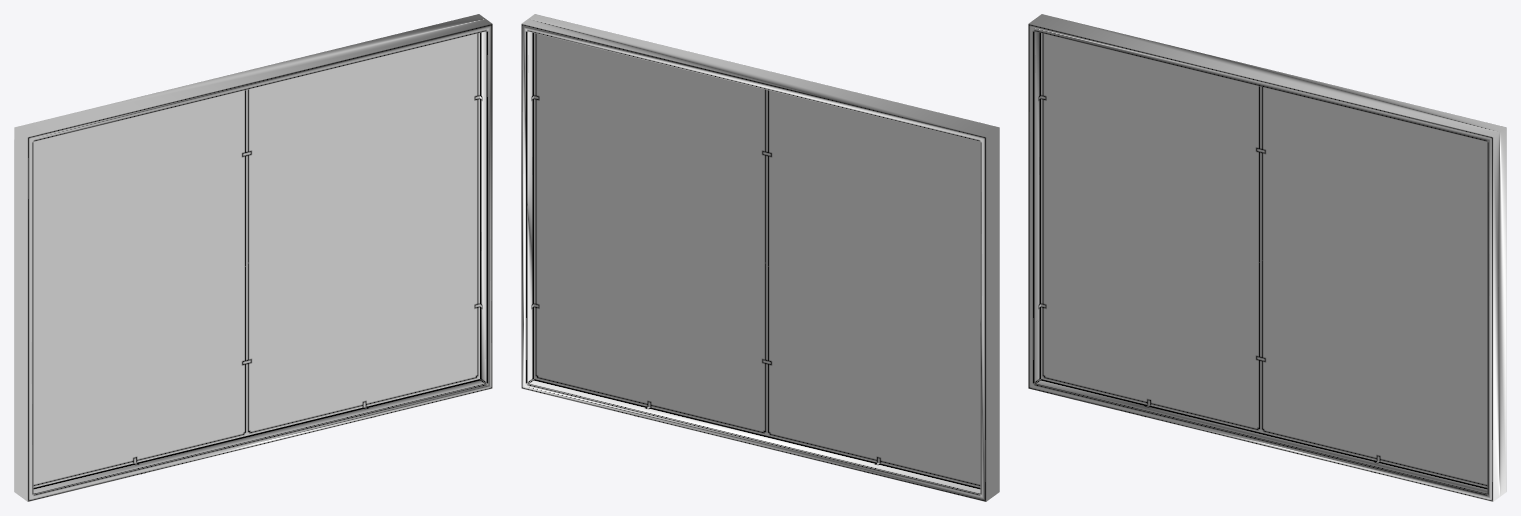
The model's file is Mesh_StoreWindow_bb_01.fbx.
3 views of the same model, side by side, from view 1: azimuth 30°, elevation 25°; view 2: azimuth 150°, elevation 25°; view 3: azimuth 330°, elevation 25° (orthographic).
Parts seen in each view (by area): view 1: cube_3; view 2: cube_3; view 3: cube_3.
Part boxes in pixels (bbox=[...]): cube_3: bbox=[14, 14, 492, 501]; cube_3: bbox=[521, 14, 999, 501]; cube_3: bbox=[1028, 14, 1506, 501].
Bounding box in the file's own units: 500 × 375 × 25.
